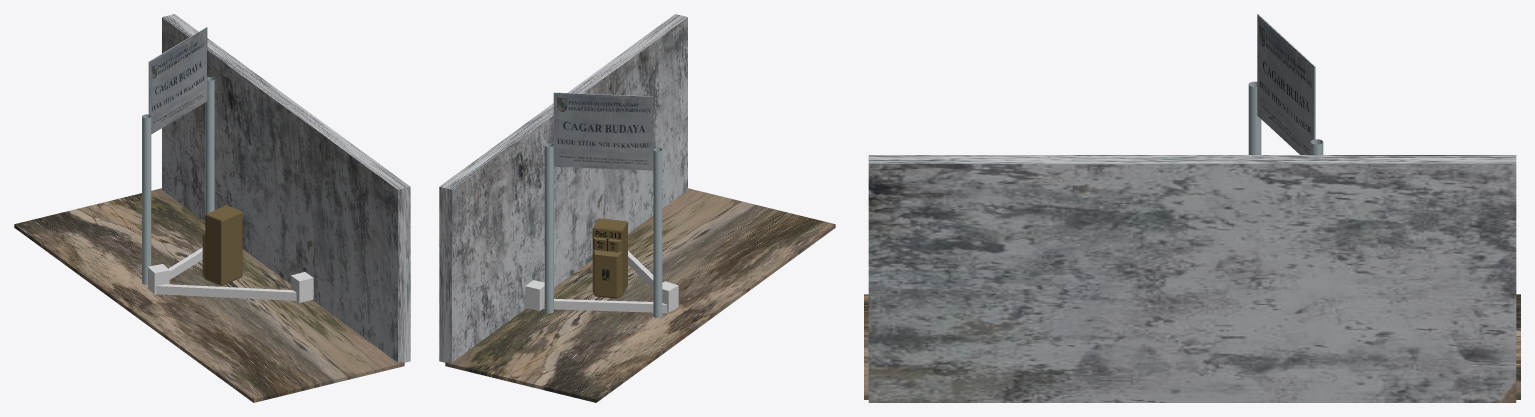
Rendered from kilometer2.fbx.
The picture shows the model from 3 angles, left to right: view 1: azimuth 30°, elevation 25°; view 2: azimuth 150°, elevation 25°; view 3: azimuth 270°, elevation 25°; orthographic projection. The views are drawn at different scales.
Visible parts, largest first — view 1: Cube.006, Plane, Circle.002, Cube, Cube.005, Cube.002, Cube.001, Cube.004; view 2: Cube.006, Plane, Circle.002, Cube, Cube.004, Cube.003, Cube.001, Cube.005; view 3: Cube.006, Circle.002, Plane.
Boxes of the visible parts, x1,y1,x2,y2 form: Cube.006: (162,14,410,362); Plane: (14,188,404,402); Circle.002: (142,27,214,284); Cube: (202,205,242,285); Cube.005: (156,284,296,300); Cube.002: (290,272,313,302); Cube.001: (148,264,169,294); Cube.004: (168,247,202,279); Cube.006: (439,14,687,362); Plane: (445,188,835,402); Circle.002: (544,92,662,317); Cube: (592,218,627,298); Cube.004: (526,299,668,312); Cube.003: (525,280,544,310); Cube.001: (662,281,678,312); Cube.005: (628,251,653,288); Cube.006: (868,155,1516,402); Circle.002: (1248,14,1323,154); Plane: (864,294,1520,399).
Size of the model in its own units: 598 by 816 by 1562.
Materials: 10 (6 with a texture image).
